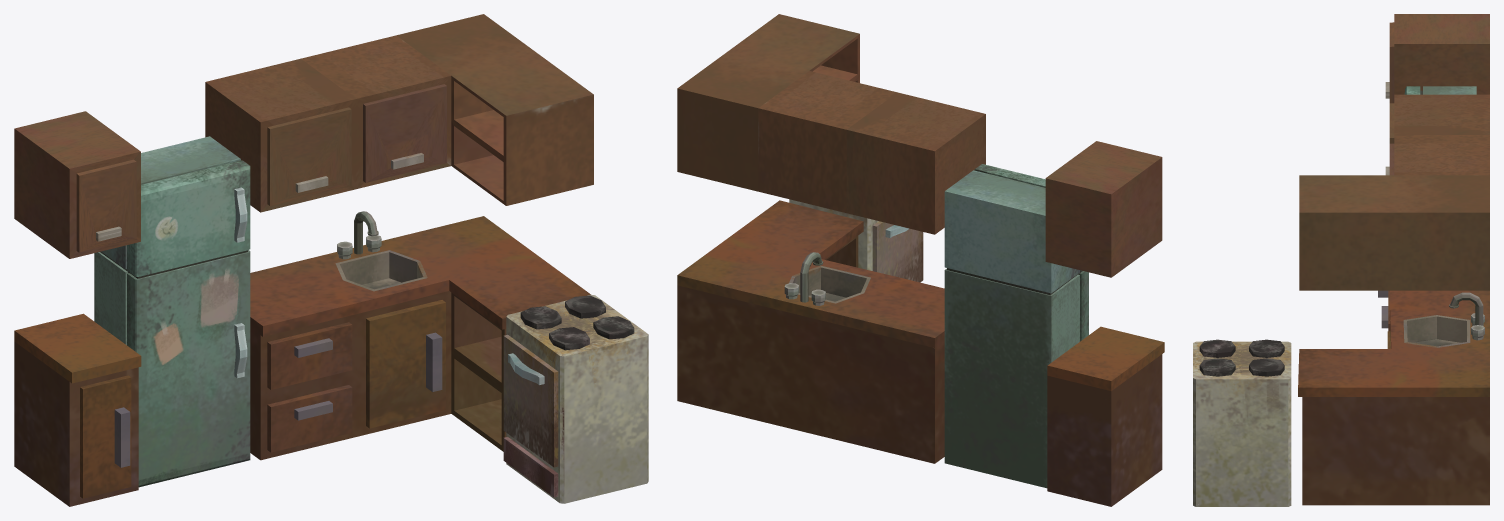
Rendered from kuh2.fbx.
3 views of the same model, side by side, from view 1: azimuth 30°, elevation 25°; view 2: azimuth 150°, elevation 25°; view 3: azimuth 270°, elevation 25° (orthographic). The views are drawn at different scales.
Parts seen in each view (by area): view 1: ПОЛКИ НИЗ, ШКАФЧИКИ ВЕРХ, ХОЛОД, ПЛИТА, ДВЕРЦА ПЛИТЫ; view 2: ПОЛКИ НИЗ, ШКАФЧИКИ ВЕРХ, ХОЛОД, ДВЕРЦА ПЛИТЫ, ПЛИТА, КРАН; view 3: ШКАФЧИКИ ВЕРХ, ПОЛКИ НИЗ, ПЛИТА, ХОЛОД, КРАН.
Part boxes in pixels (x1,y1,x2,y2): ПОЛКИ НИЗ: (14, 216, 590, 506); ШКАФЧИКИ ВЕРХ: (14, 14, 593, 258); ХОЛОД: (94, 136, 250, 487); ПЛИТА: (503, 294, 648, 503); ДВЕРЦА ПЛИТЫ: (503, 334, 558, 467); ПОЛКИ НИЗ: (677, 200, 1164, 506); ШКАФЧИКИ ВЕРХ: (677, 14, 1162, 277); ХОЛОД: (944, 164, 1088, 488); ДВЕРЦА ПЛИТЫ: (872, 221, 923, 282); ПЛИТА: (789, 199, 878, 270); КРАН: (800, 252, 823, 302); ШКАФЧИКИ ВЕРХ: (1299, 14, 1489, 290); ПОЛКИ НИЗ: (1298, 290, 1489, 505); ПЛИТА: (1193, 339, 1291, 506); ХОЛОД: (1404, 86, 1476, 94); КРАН: (1449, 292, 1483, 325).
Bounding box in the file's own units: 256 × 178 × 162.
